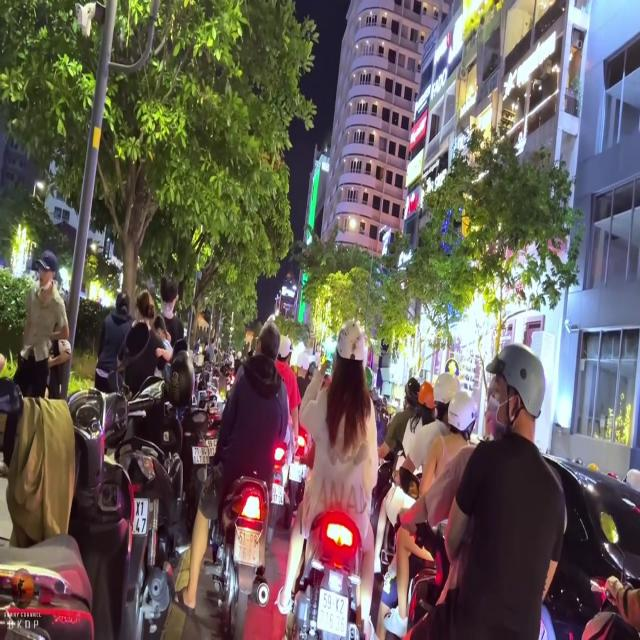bien_trang: (315, 591, 350, 640), (234, 524, 260, 566), (131, 490, 148, 532)
